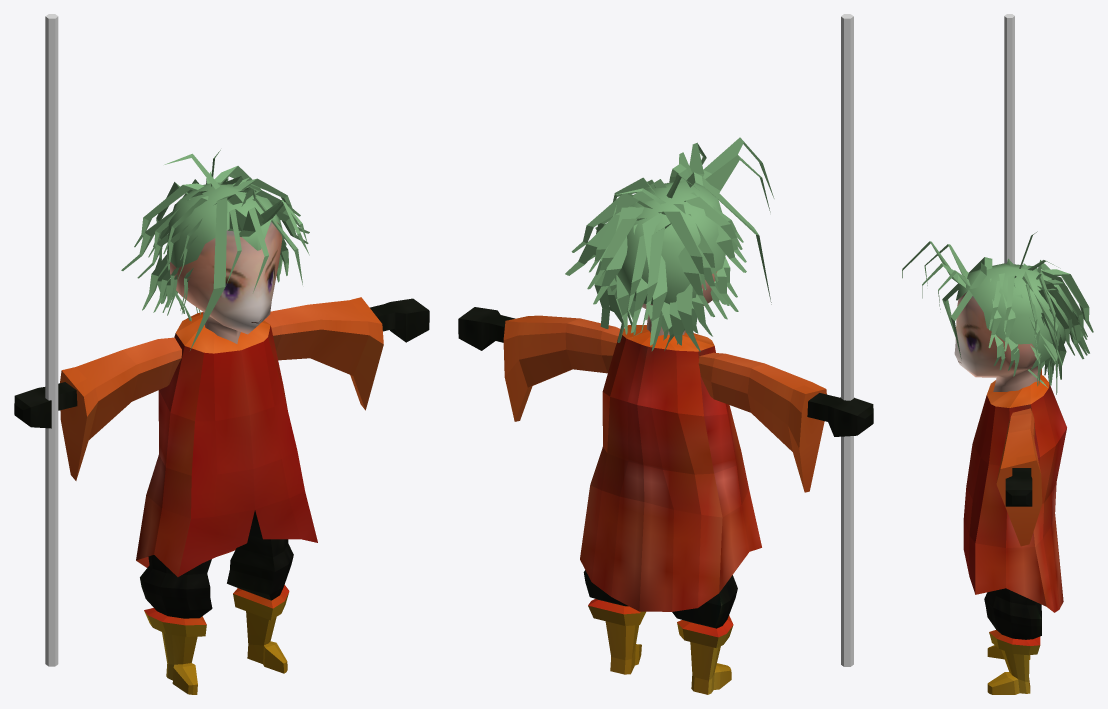
Rendered from asa.glb.
3 renders of one model, left to right at view 1: azimuth 30°, elevation 25°; view 2: azimuth 150°, elevation 25°; view 3: azimuth 270°, elevation 25°, orthographic. The views are drawn at different scales.
Visible parts, largest first — view 1: Body, HairDetail, Weapon, Head, HairBase; view 2: Body, HairDetail, Weapon, HairBase; view 3: Body, HairDetail, HairBase, Head, Weapon.
Boxes of the visible parts, x1,y1,x2,y2 form: Body: (14, 297, 429, 694); HairDetail: (121, 150, 309, 350); Weapon: (45, 14, 58, 666); Head: (170, 221, 282, 343); HairBase: (166, 182, 284, 270); Body: (458, 307, 873, 694); HairDetail: (565, 137, 774, 351); Weapon: (841, 14, 853, 666); HairBase: (615, 181, 725, 304); Body: (963, 369, 1066, 694); HairDetail: (902, 231, 1093, 394); HairBase: (956, 263, 1072, 370); Head: (954, 291, 1040, 391); Weapon: (1004, 14, 1014, 264).
Size of the model in its own units: 1.74 by 2.87 by 0.8516.
Materials: 3 (2 with a texture image).
